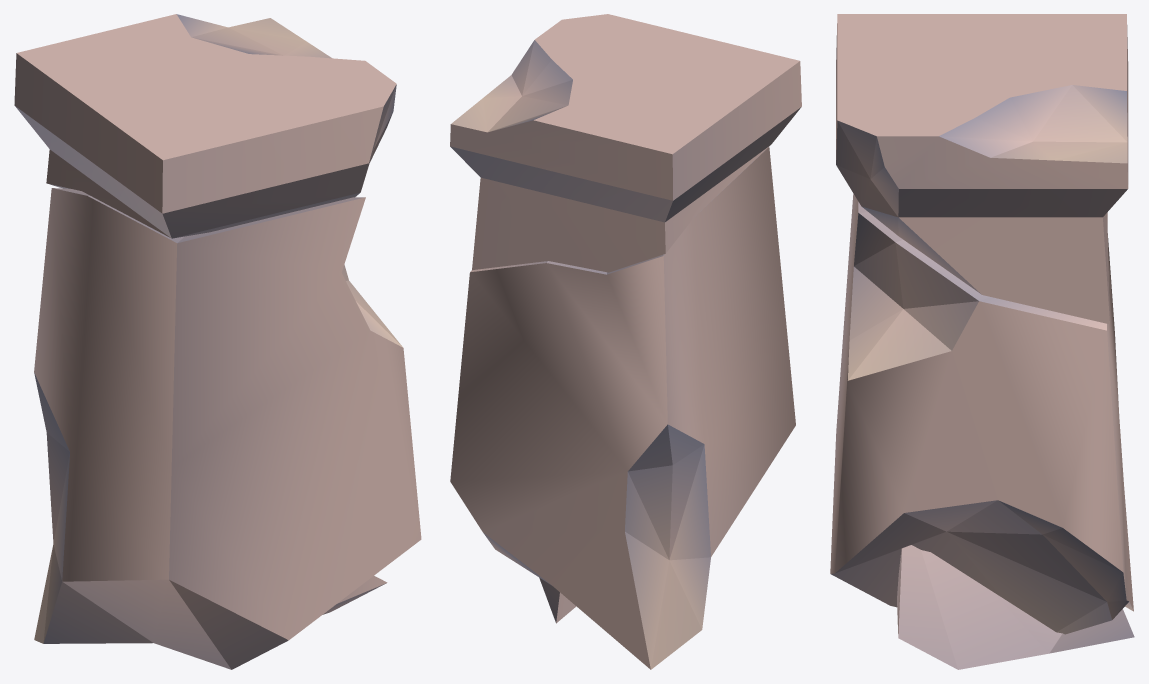
The model's file is SquarePillarPieces.gltf.
3 views of the same model, side by side, from view 1: azimuth 30°, elevation 25°; view 2: azimuth 150°, elevation 25°; view 3: azimuth 270°, elevation 25° (orthographic). The views are drawn at different scales.
Visible parts, largest first — view 1: SquarePillarPiece2Mesh, SquarePillarPiece1Mesh; view 2: SquarePillarPiece2Mesh, SquarePillarPiece1Mesh, SquarePillarPiece3Mesh; view 3: SquarePillarPiece2Mesh, SquarePillarPiece1Mesh, SquarePillarPiece3Mesh.
Boxes of the visible parts, <box> form: SquarePillarPiece2Mesh: <box>34,188,421,669</box>; SquarePillarPiece1Mesh: <box>14,14,396,238</box>; SquarePillarPiece2Mesh: <box>450,147,795,669</box>; SquarePillarPiece1Mesh: <box>450,14,801,272</box>; SquarePillarPiece3Mesh: <box>539,577,576,623</box>; SquarePillarPiece2Mesh: <box>830,193,1133,634</box>; SquarePillarPiece1Mesh: <box>836,14,1128,324</box>; SquarePillarPiece3Mesh: <box>897,545,1134,669</box>.
Bounding box in the file's own units: 1.38 × 3.02 × 1.42.
